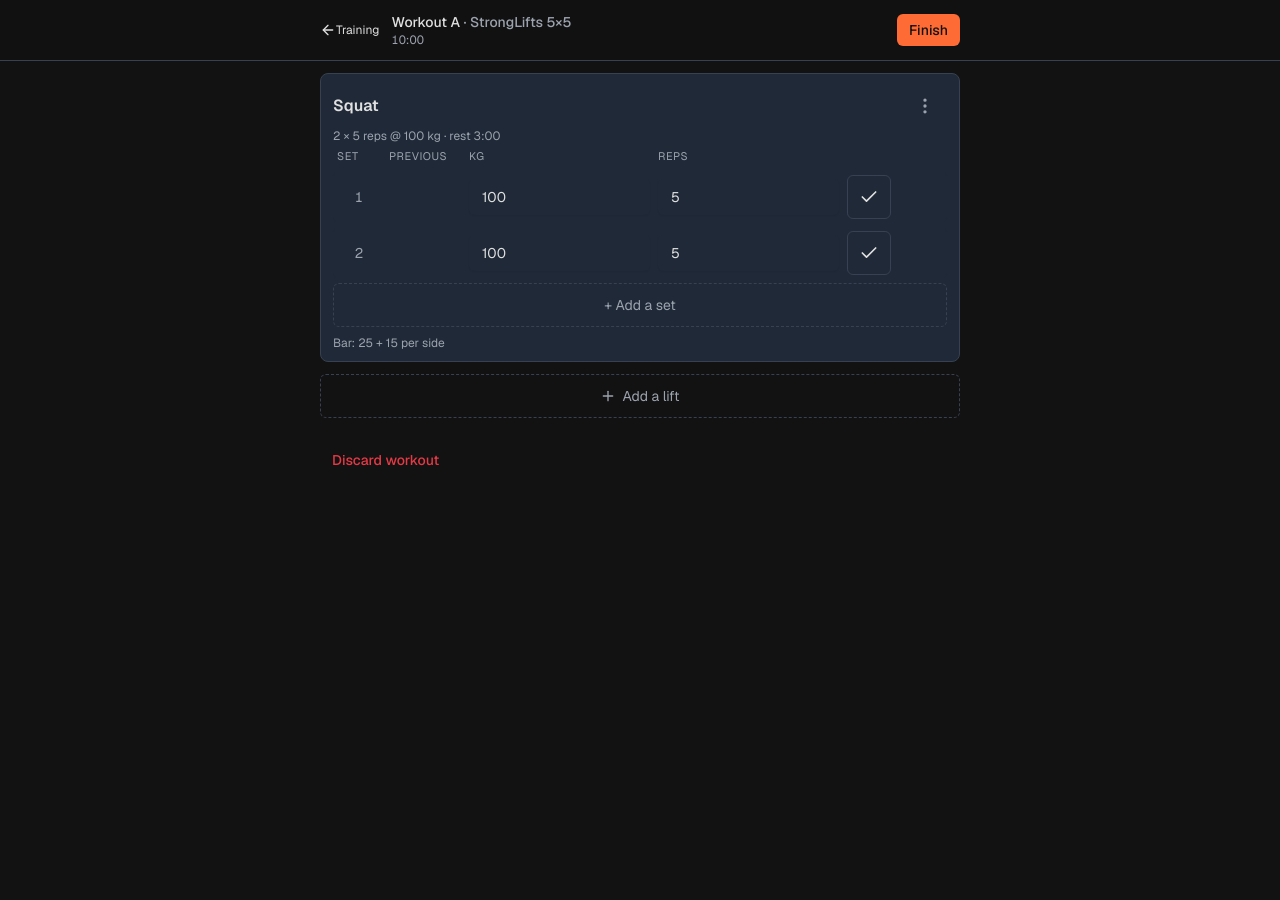
Scenario: the menu behind the set number › offers warm-up, working and drop set — and never Failure
Step 1. Click the button with test id "set-menu-1" → (359, 196), box [337, 174, 381, 218]
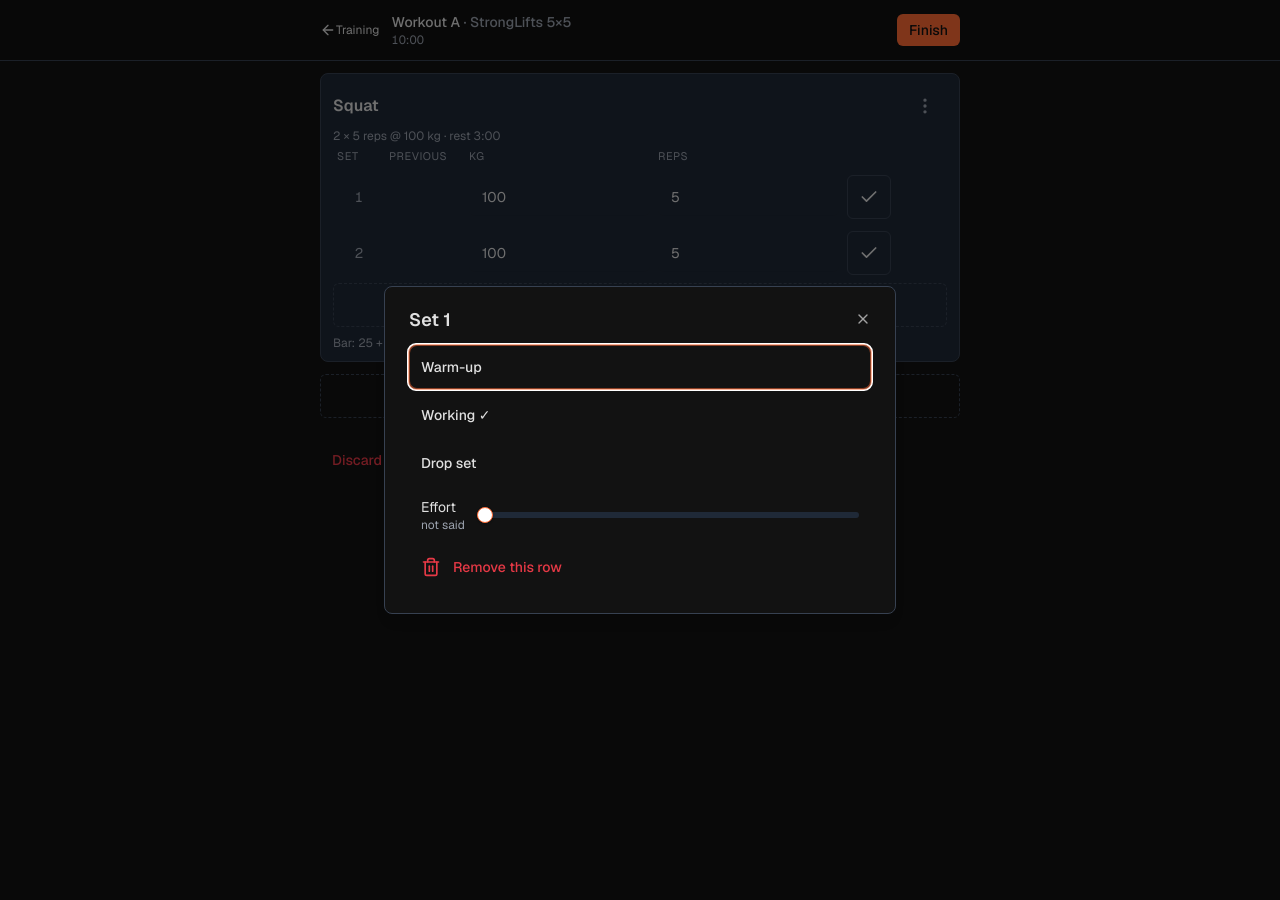
Now the button with test id "set-kind-warmup" is shown, box [409, 345, 871, 389]
Now the button with test id "set-kind-working" is shown, box [409, 393, 871, 437]
Now the button with test id "set-kind-drop" is shown, box [409, 441, 871, 485]
